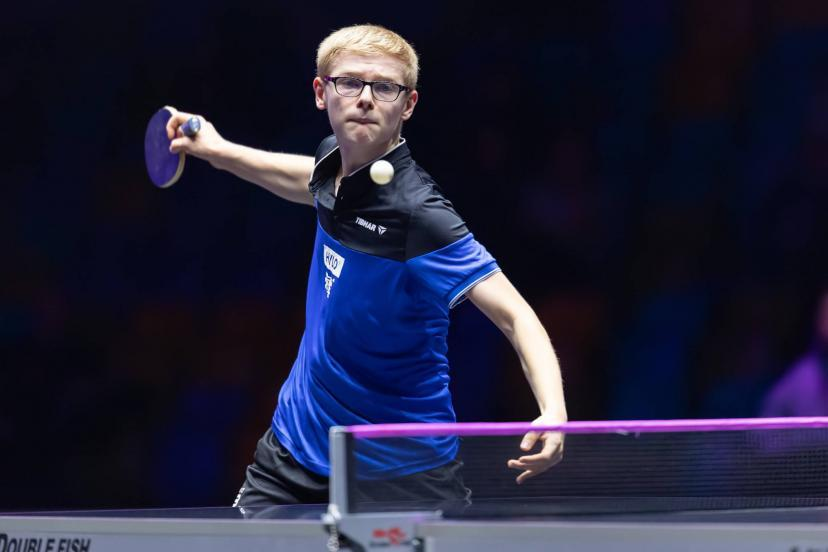ball_pingpong: (366, 158, 397, 183)
